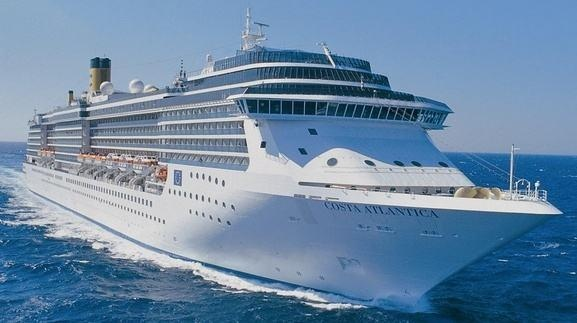youlun: (25, 7, 563, 305)
